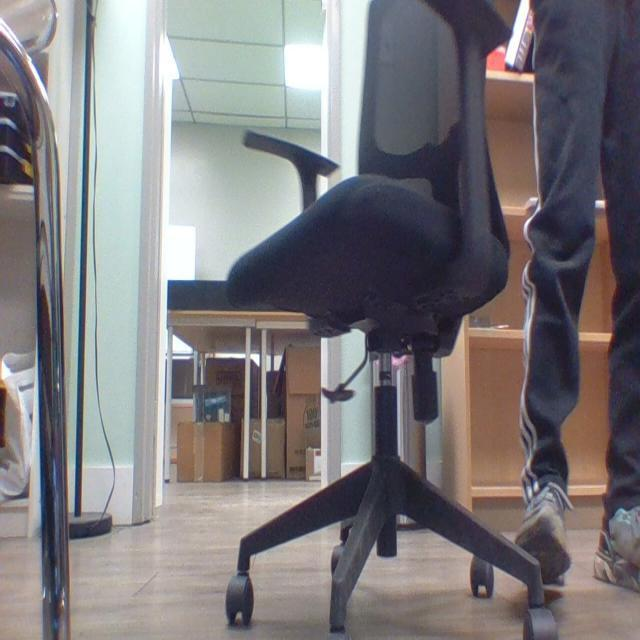chair: (219, 1, 547, 639)
